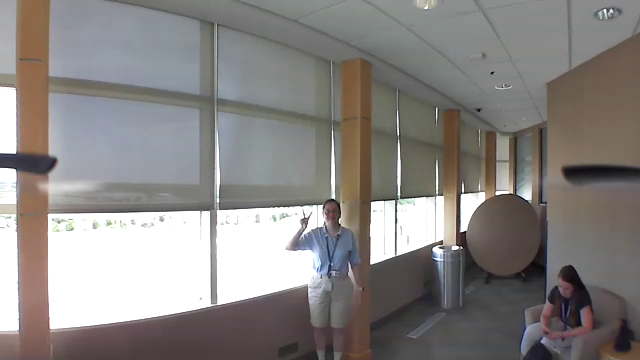peace: (293, 202, 317, 237)
